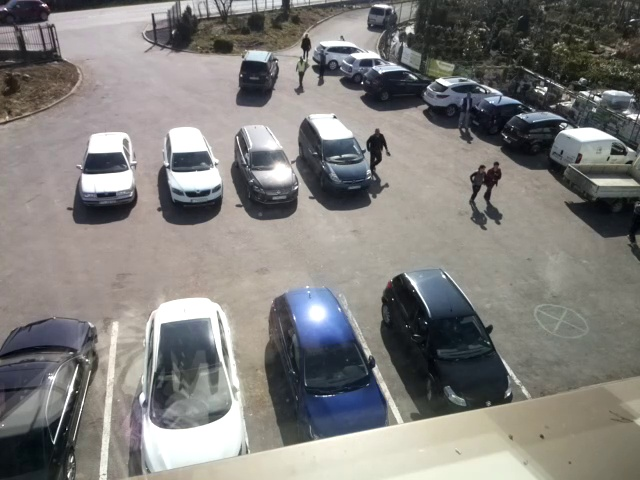car: (142, 296, 249, 474), (384, 270, 513, 413), (270, 287, 388, 441), (1, 317, 96, 480), (299, 112, 375, 194), (233, 124, 301, 207), (162, 126, 225, 212), (549, 125, 640, 176), (78, 131, 137, 209), (503, 111, 588, 154), (423, 78, 507, 116), (474, 94, 544, 133), (363, 63, 438, 99), (312, 39, 379, 74), (240, 49, 281, 92), (340, 52, 401, 80), (1, 1, 51, 26), (366, 4, 398, 27)
